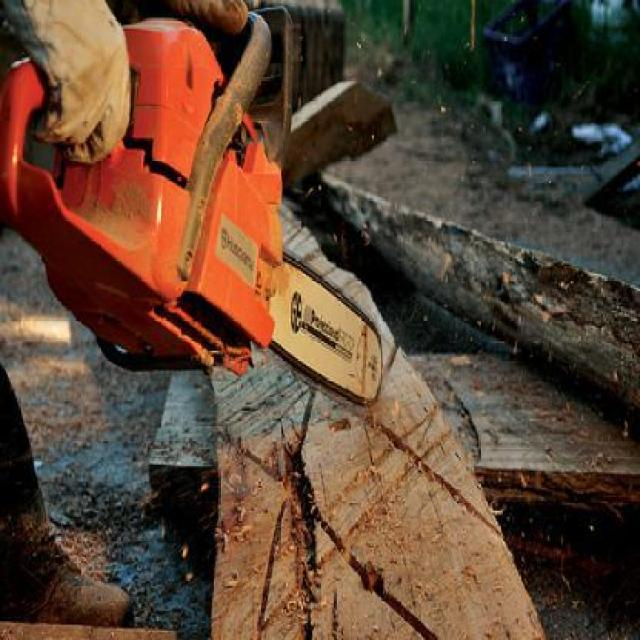Chainsaw: (1, 0, 384, 409)
